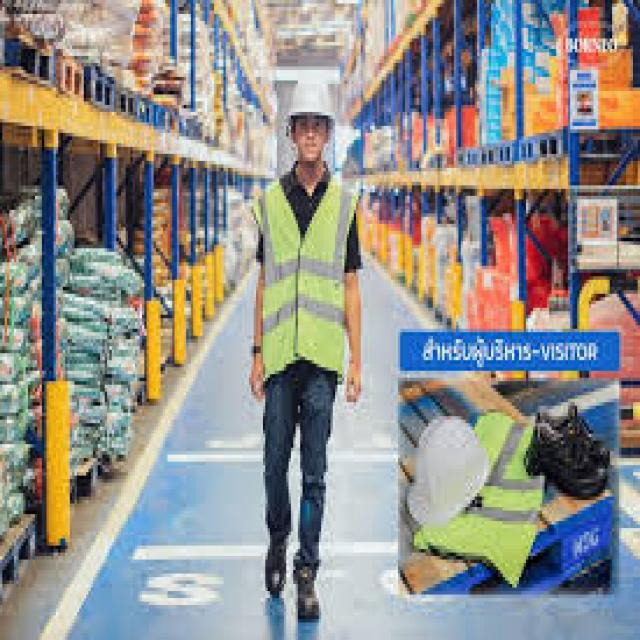Reflective-Jacket: (251, 168, 363, 388)
Safety-Helmet: (284, 73, 337, 126)
